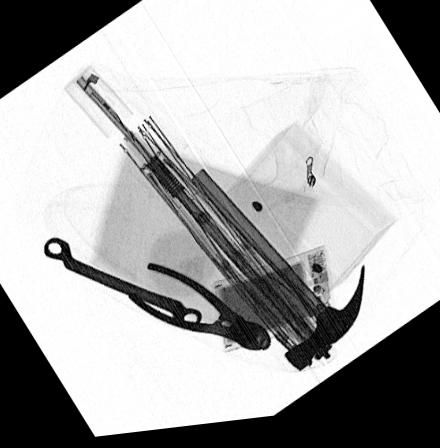Hammer: (188, 172, 364, 378)
Pliers: (123, 262, 273, 358)
Powerbank: (210, 249, 334, 358)
Wrench: (43, 236, 201, 331)
